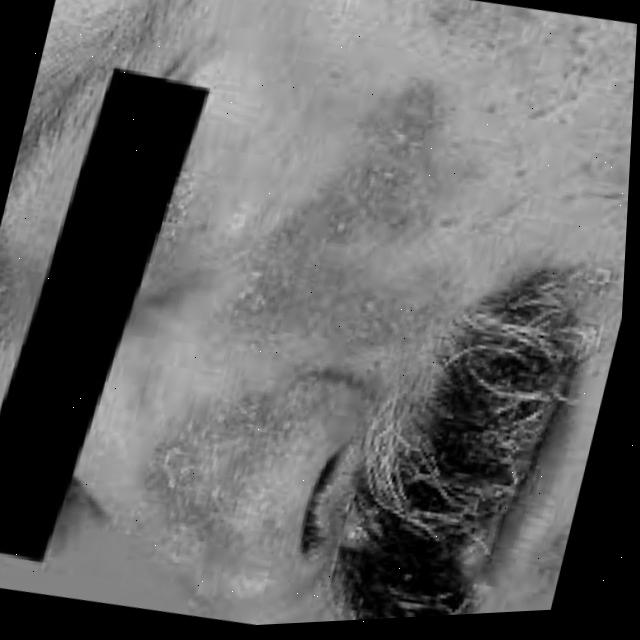Rosacea: (132, 30, 473, 577)
